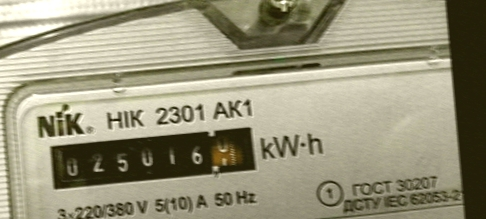0: (142, 147, 158, 171), (66, 158, 81, 181), (217, 135, 231, 156)
1: (166, 144, 180, 170), (221, 158, 230, 170)
2: (92, 152, 107, 176)
5: (117, 153, 130, 175)
6: (191, 144, 206, 171)
screen: (41, 119, 268, 200)
